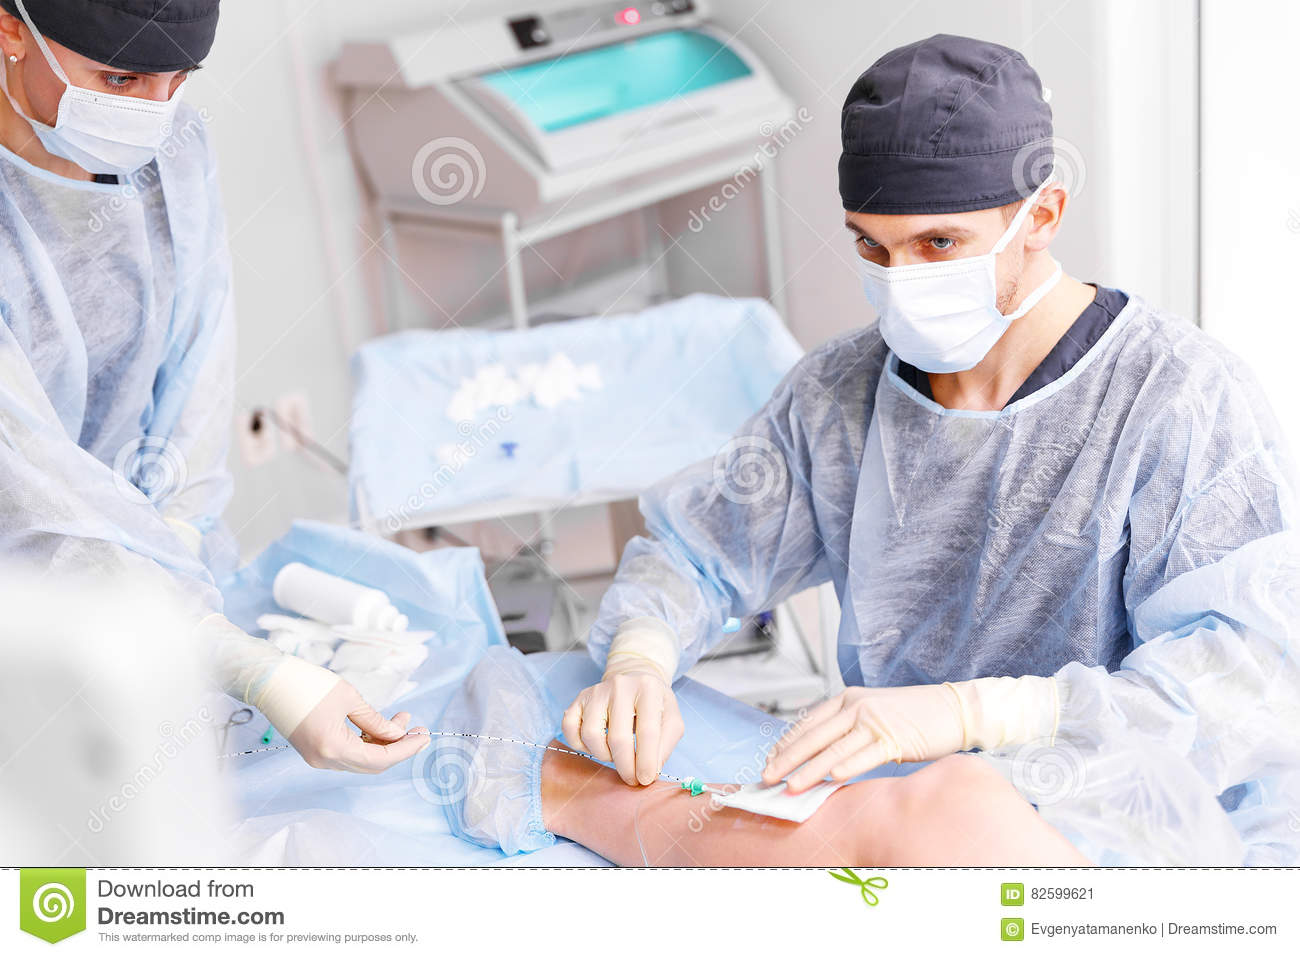mask: (838, 239, 1003, 398)
